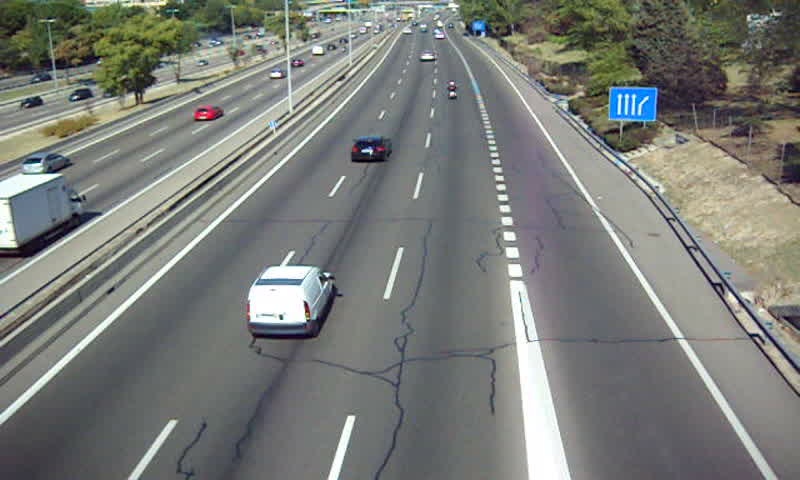car: (348, 137, 390, 165), (419, 52, 435, 64)
motorcycle: (447, 82, 460, 101)
van: (244, 266, 336, 338)
